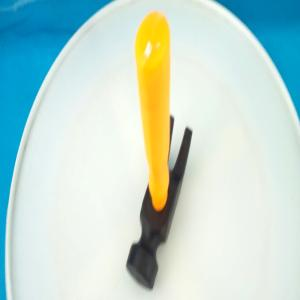martelo: (124, 5, 194, 294)
